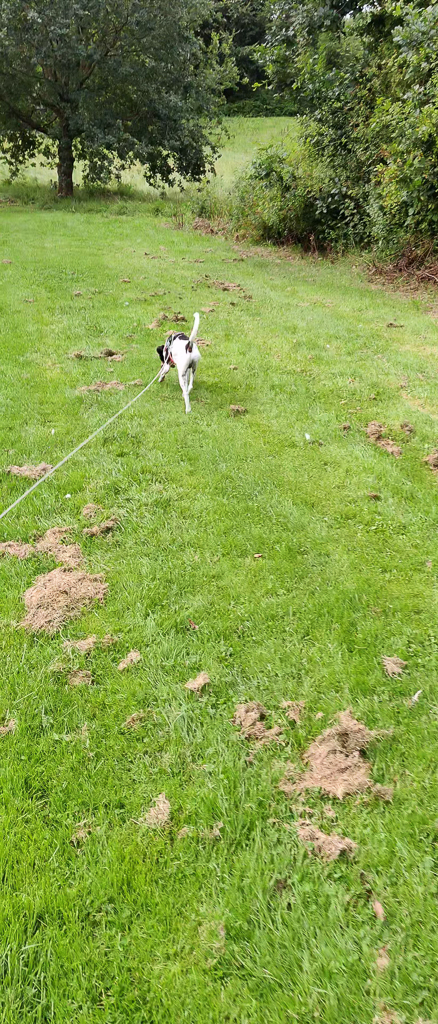Dog: (143, 300, 216, 431)
